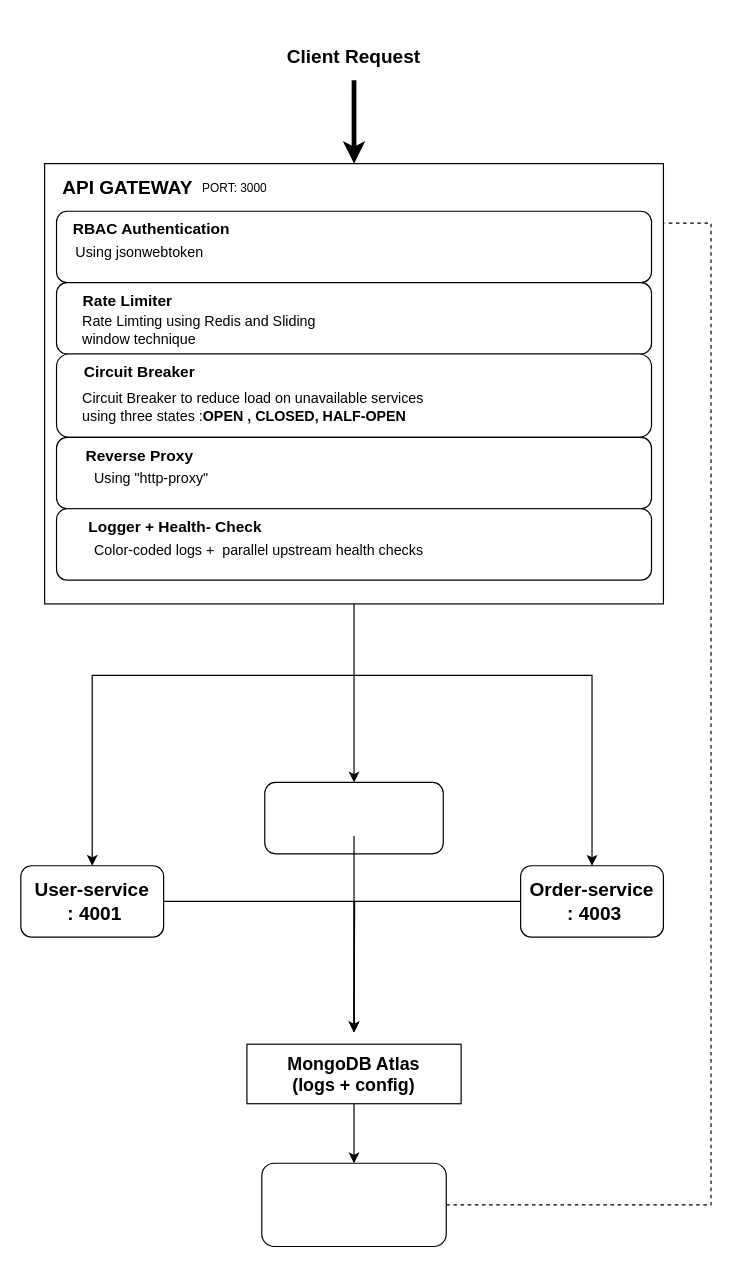
Some shapes in this 733 by 1267 pixel diagram are drawn without their labels. The shapes that lost their labels are listed below. From the top down, each one's box as (x1, y1, x2, y2) in pixels, then its label:
(264, 781, 443, 854): Products-service : 4002
(261, 1162, 446, 1247): React Dashboard (Socket .io live feed)
